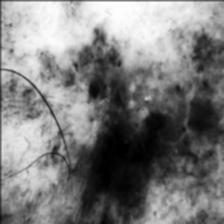Potentially Malignant Skin Tumors: (65, 42, 224, 220)
